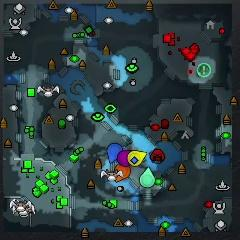Other: (197, 63, 212, 78)
p1: (108, 143, 122, 164)
p2: (140, 167, 155, 187)
p3: (118, 150, 132, 166)
p4: (127, 151, 146, 167)
p5: (115, 164, 131, 181)
